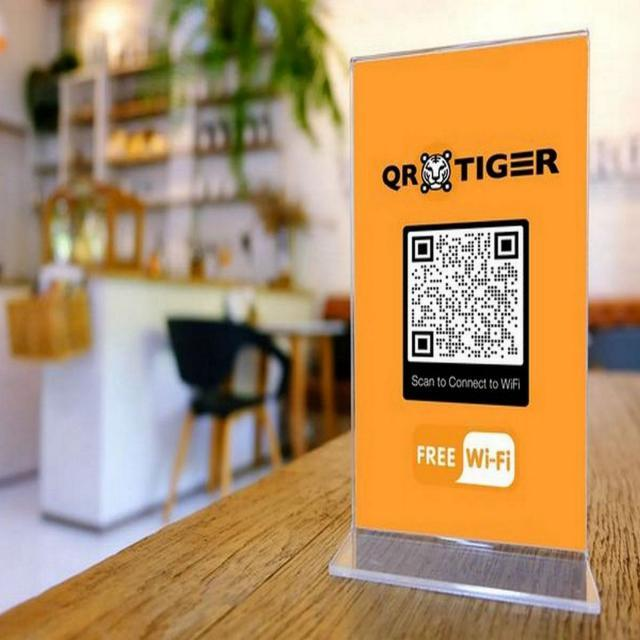qr_code: (411, 230, 519, 361)
